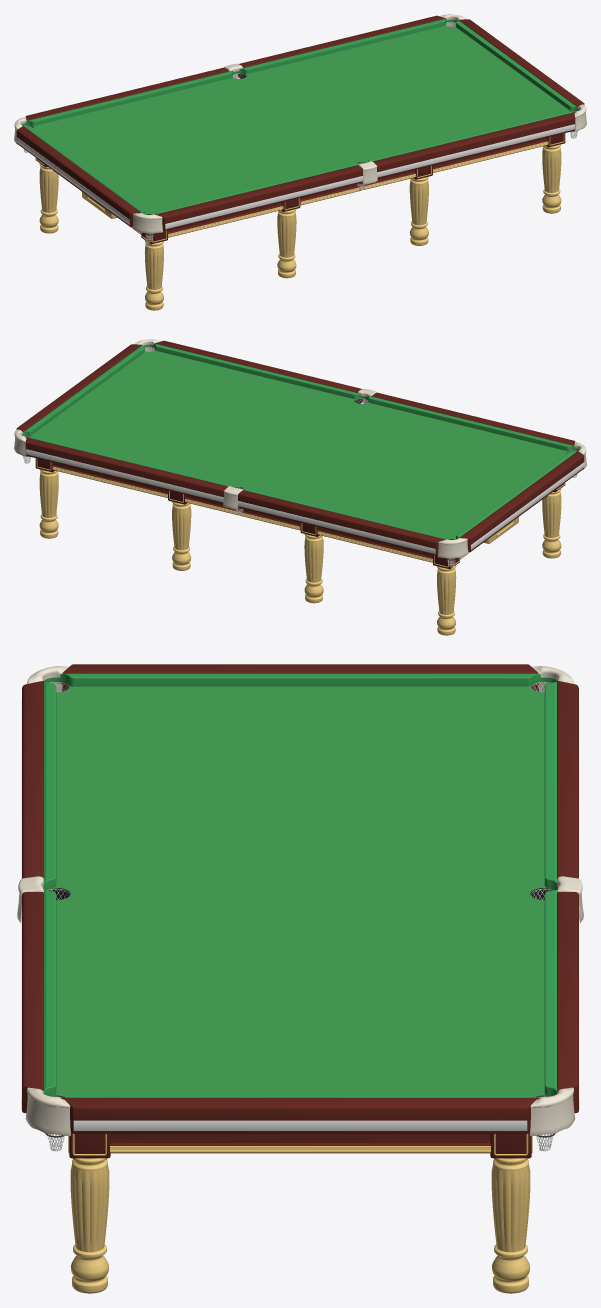
Rendered from snooker_table.glb.
3 views of the same model, one above another, from view 1: azimuth 30°, elevation 25°; view 2: azimuth 150°, elevation 25°; view 3: azimuth 270°, elevation 25° (orthographic). The views are drawn at different scales.
Parts seen in each view (by area): view 1: Cloth, RailTop_Wood, Legs, Cushions, Apron_Wood, Trim_Brass, Pocket_Corner_C, Pocket_Middle_B; view 2: Cloth, RailTop_Wood, Legs, Cushions, Apron_Wood, Trim_Brass, Pocket_Corner_B, Pocket_Middle_A; view 3: Cloth, RailTop_Wood, Cushions, Legs, Apron_Wood, Trim_Brass, Pocket_Corner_A, Pocket_Corner_D.
Boxes of the visible parts, <box> form: Cloth: <box>32,25,570,214</box>; RailTop_Wood: <box>16,15,584,230</box>; Legs: <box>35,133,565,310</box>; Cushions: <box>24,18,578,214</box>; Apron_Wood: <box>46,137,547,237</box>; Trim_Brass: <box>35,133,564,242</box>; Pocket_Corner_C: <box>132,213,163,242</box>; Pocket_Middle_B: <box>357,161,377,190</box>; Cloth: <box>30,350,568,539</box>; RailTop_Wood: <box>16,340,584,555</box>; Legs: <box>35,458,565,635</box>; Cushions: <box>22,343,576,539</box>; Apron_Wood: <box>53,462,554,562</box>; Trim_Brass: <box>36,458,565,567</box>; Pocket_Corner_B: <box>437,538,468,567</box>; Pocket_Middle_A: <box>223,486,243,515</box>; Cloth: <box>54,685,546,1096</box>; RailTop_Wood: <box>21,664,579,1133</box>; Cushions: <box>43,673,557,1097</box>; Legs: <box>69,1132,531,1293</box>; Apron_Wood: <box>109,1134,491,1153</box>; Trim_Brass: <box>68,1134,532,1155</box>; Pocket_Corner_A: <box>530,1087,575,1151</box>; Pocket_Corner_D: <box>25,1087,70,1151</box>.
Bounding box in the file's own units: 3.82 × 0.8426 × 2.06.
